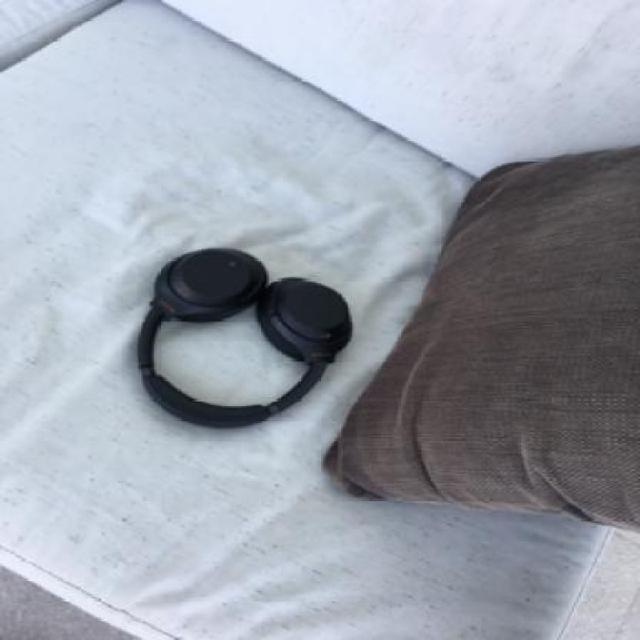earphone: (150, 197, 357, 463)
